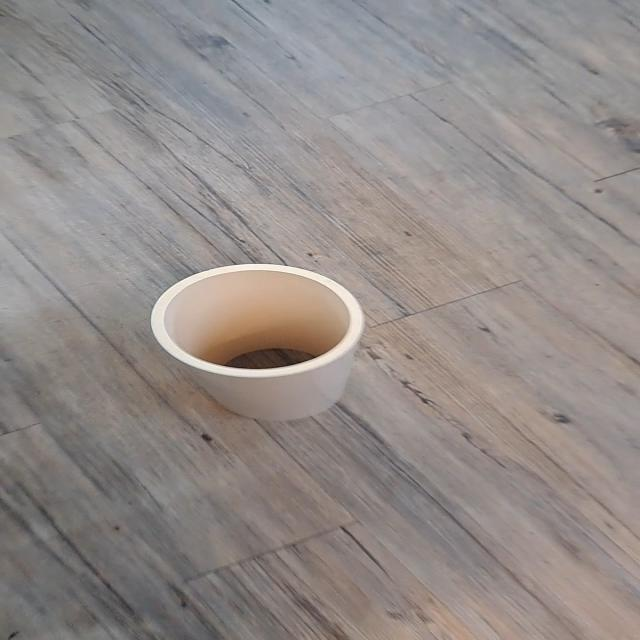CORAL: (125, 247, 435, 448)
